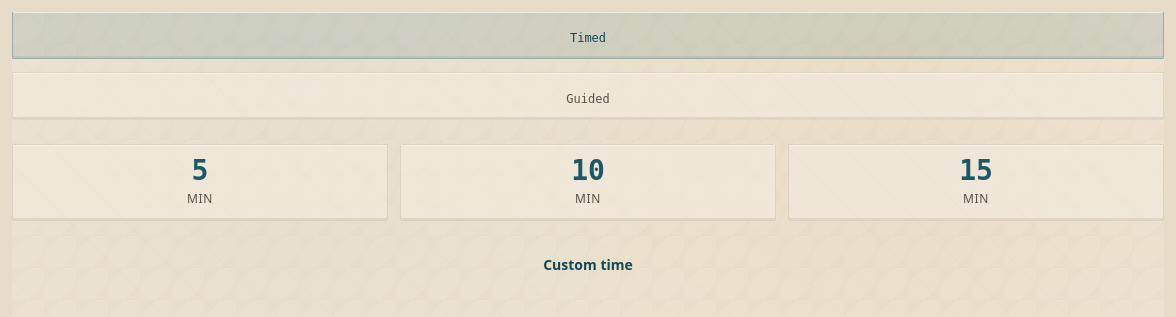
TimerCore dashboard mode › shows resume button after pausing and can resume
The image size is (1176, 317).
Click the button with test id "meditation-preset-5": point(200, 183) [12, 144, 388, 221]
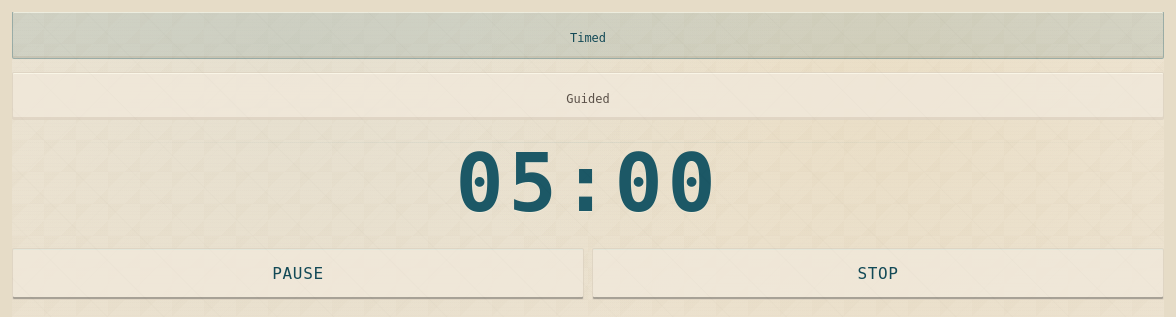
Click the button with test id "timer-pause": point(298, 274) [12, 248, 584, 300]
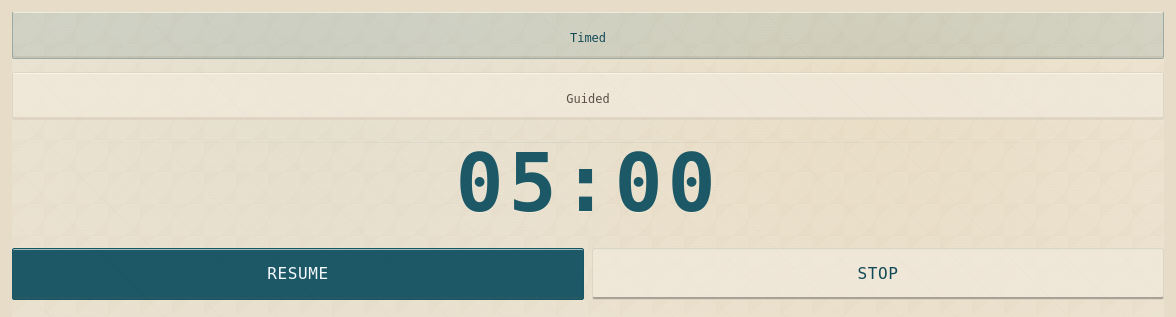
Check: the text "05:00" is shown, box [456, 137, 720, 230]
Click the button with test id "timer-resume": point(298, 274) [12, 248, 584, 300]
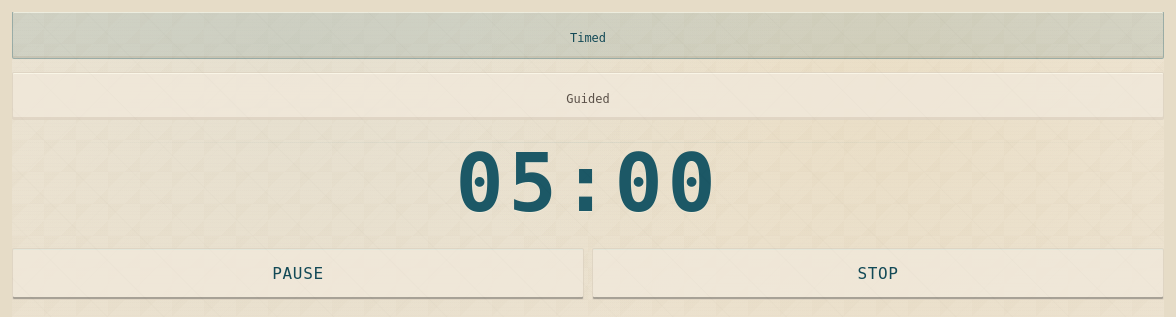
Check: the button with test id "timer-pause" is shown, box [12, 248, 584, 300]
Check: the button with test id "timer-resume" is gone
